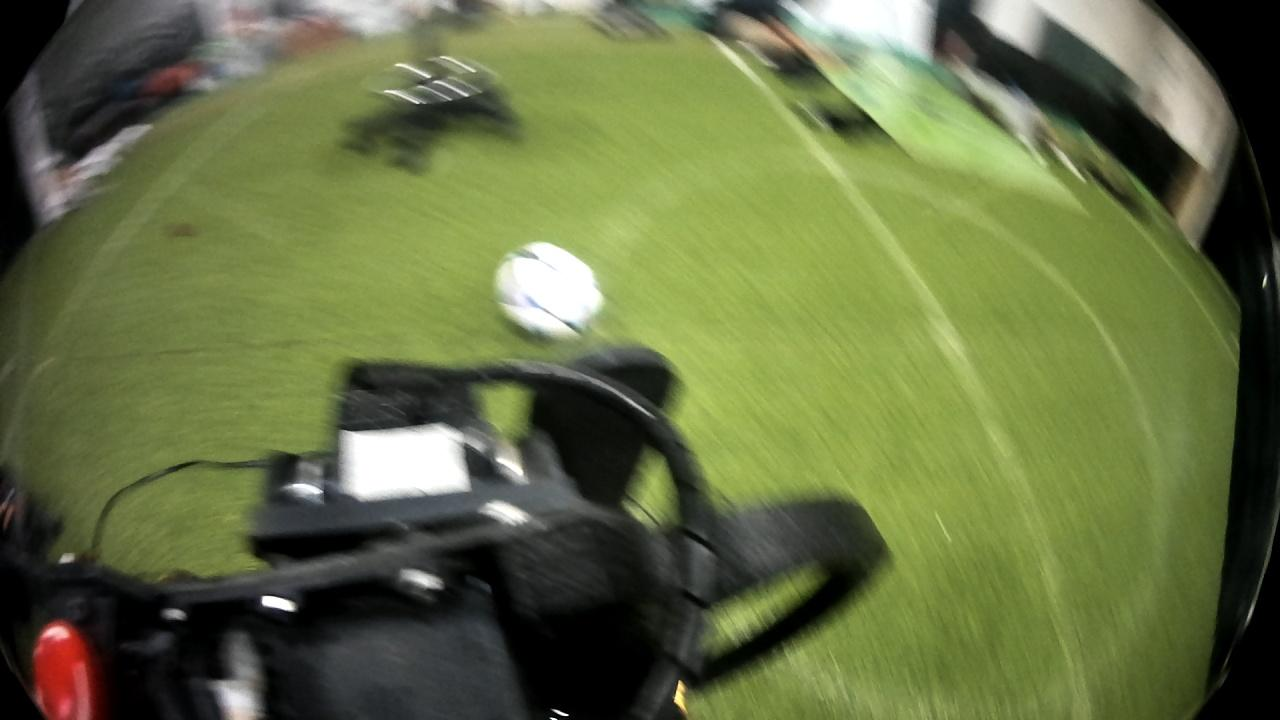ball: (491, 229, 608, 348)
